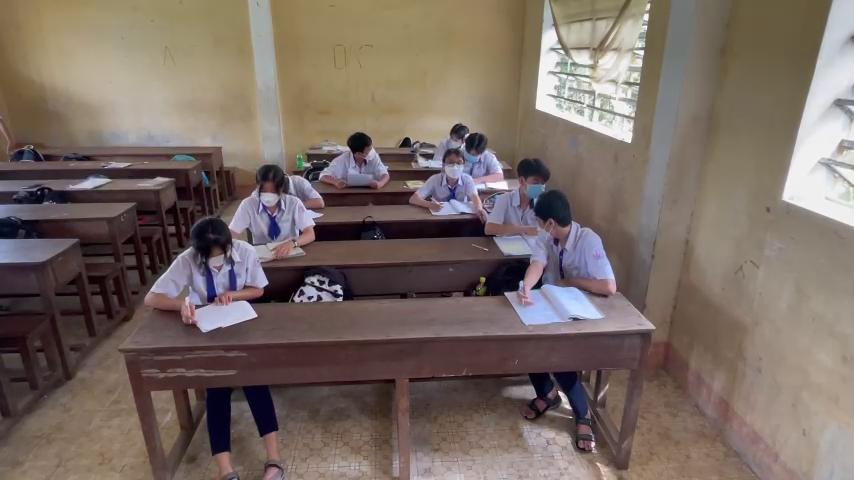Look Around: (529, 186, 581, 240), (340, 125, 384, 168)
Wave: (460, 172, 495, 226)
